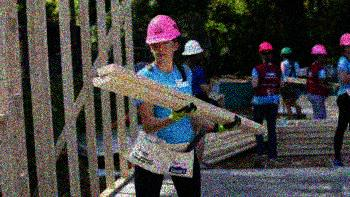helmet: (145, 14, 182, 63), (182, 39, 205, 65), (309, 42, 328, 63), (258, 41, 275, 63), (337, 32, 350, 56), (280, 46, 293, 60)
